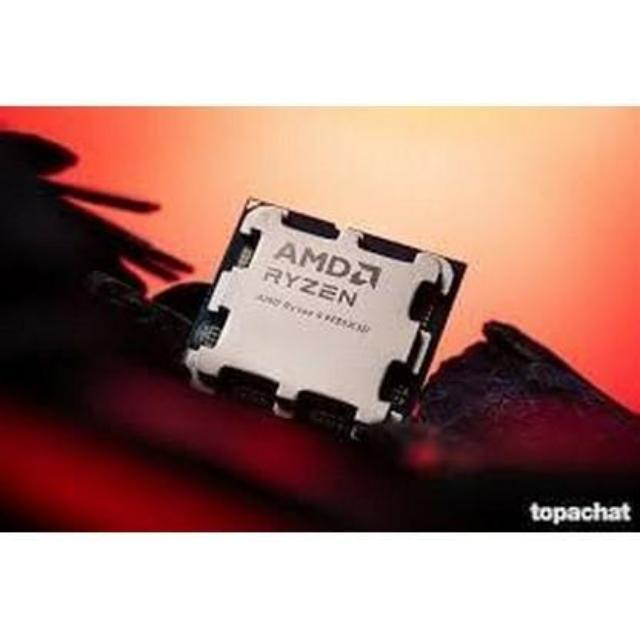CPU: (181, 197, 436, 443)
